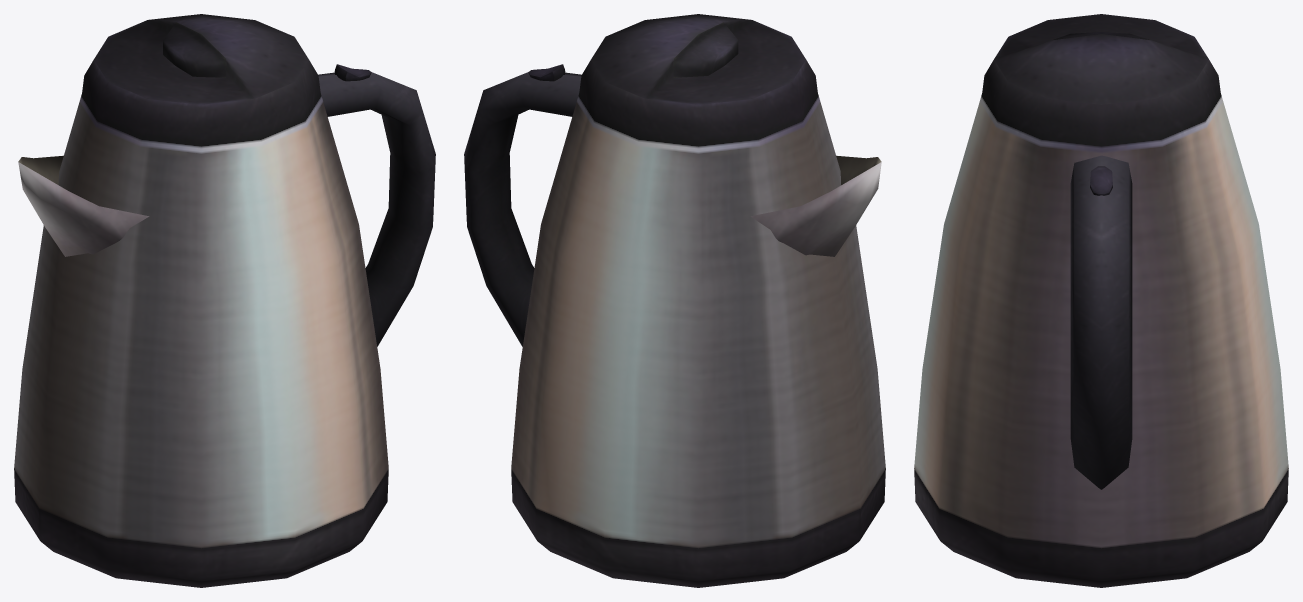
File: ZhiBanShi_01_shuihu_01_uv2.FBX
The picture shows the model from 3 angles, left to right: view 1: azimuth 30°, elevation 25°; view 2: azimuth 150°, elevation 25°; view 3: azimuth 270°, elevation 25°; orthographic projection.
Visible parts, largest first — view 1: ZhiBanShi_shuihu_01; view 2: ZhiBanShi_shuihu_01; view 3: ZhiBanShi_shuihu_01.
Boxes of the visible parts, bbox=[...] form: ZhiBanShi_shuihu_01: bbox=[14, 14, 435, 587]; ZhiBanShi_shuihu_01: bbox=[464, 14, 885, 587]; ZhiBanShi_shuihu_01: bbox=[914, 14, 1288, 587].
Bounding box in the file's own units: 106 × 117 × 82.48.
